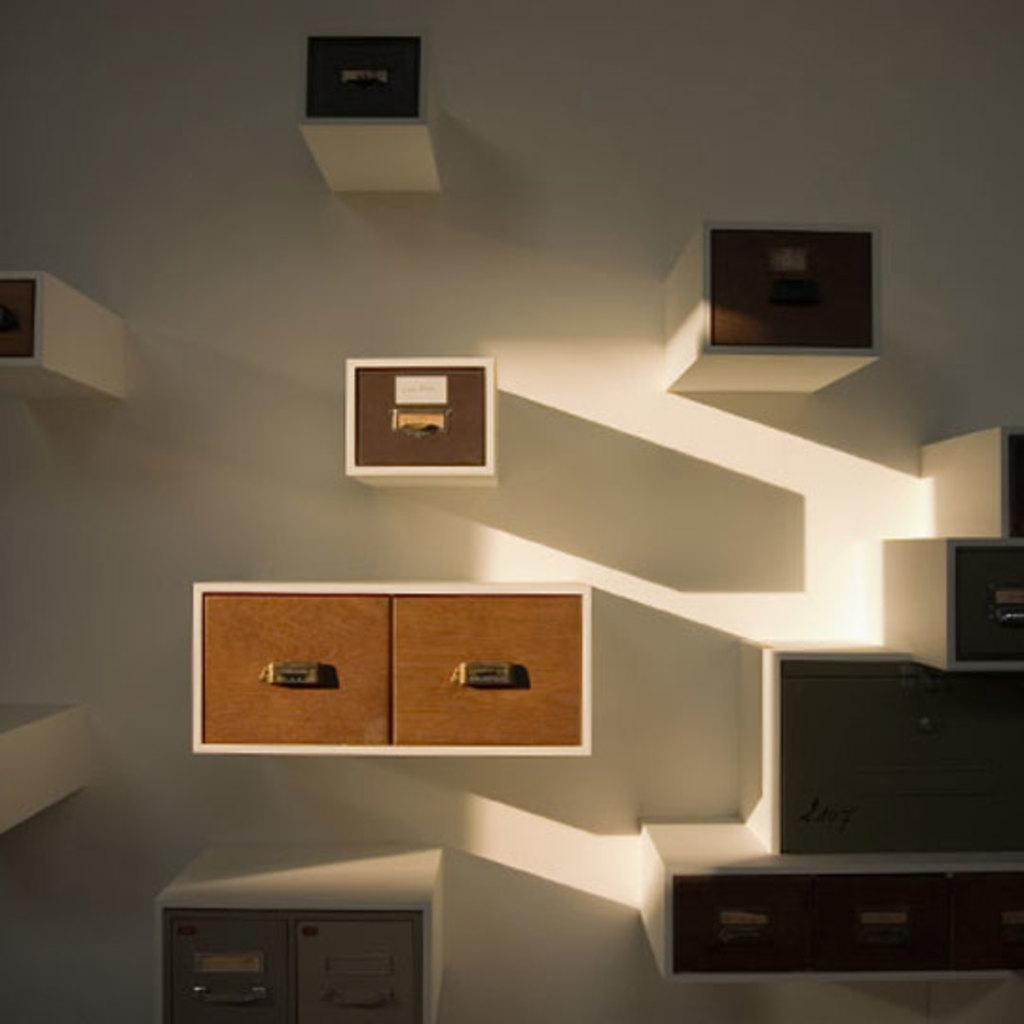cabinet_door: (780, 670, 1022, 836), (674, 880, 1024, 978), (208, 603, 390, 738), (392, 608, 582, 736), (710, 230, 870, 347), (170, 913, 292, 1024), (354, 371, 484, 465), (300, 920, 414, 1024), (310, 42, 416, 110), (959, 546, 1024, 650)
handle: (262, 651, 342, 697), (710, 904, 784, 952), (461, 651, 525, 694), (862, 902, 916, 943), (196, 978, 262, 1006), (331, 988, 392, 1018), (397, 402, 455, 432), (1002, 598, 1024, 638), (347, 73, 392, 91)
